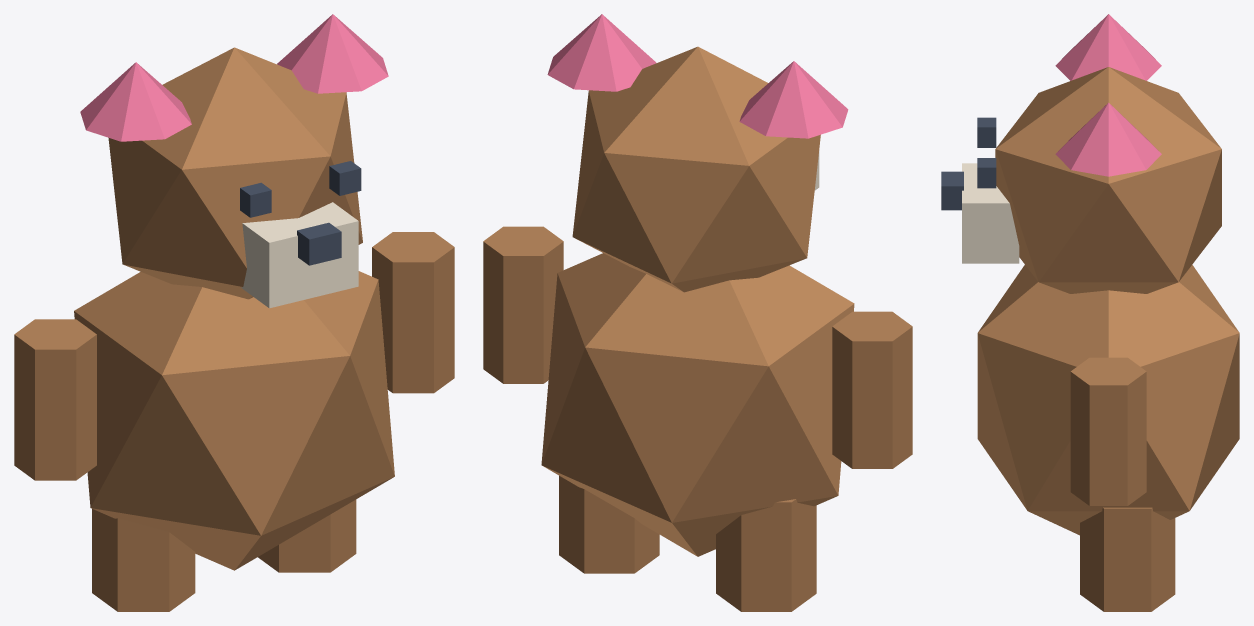
Rendered from plush-pet.glb.
The picture shows the model from 3 angles, left to right: view 1: azimuth 30°, elevation 25°; view 2: azimuth 150°, elevation 25°; view 3: azimuth 270°, elevation 25°; orthographic projection. The views are drawn at different scales.
Visible parts, largest first — view 1: prop_plush-pet; view 2: prop_plush-pet; view 3: prop_plush-pet.
Part boxes in pixels (x1,y1,x2,y2): prop_plush-pet: (14, 14, 454, 611); prop_plush-pet: (483, 14, 912, 611); prop_plush-pet: (941, 14, 1239, 611).
Bounding box in the file's own units: 0.2346 × 0.29 × 0.1569.
